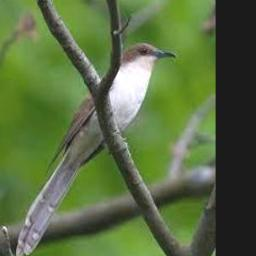Cuckoo: (17, 42, 177, 256)
